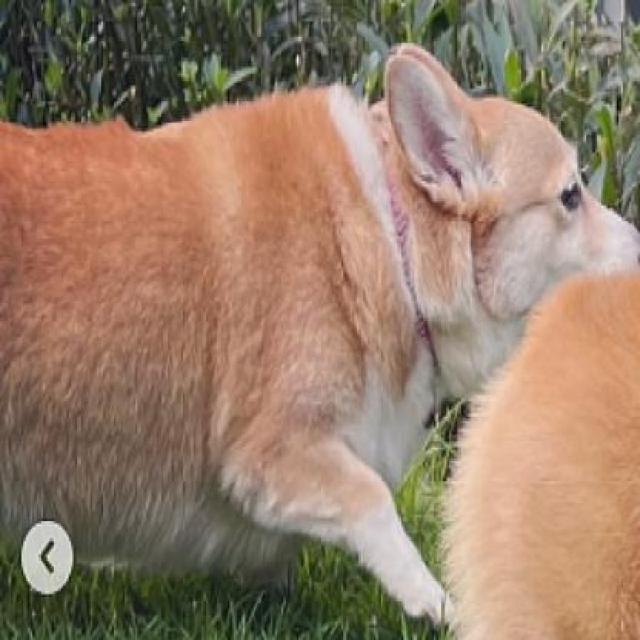Dog: (0, 35, 638, 638)
